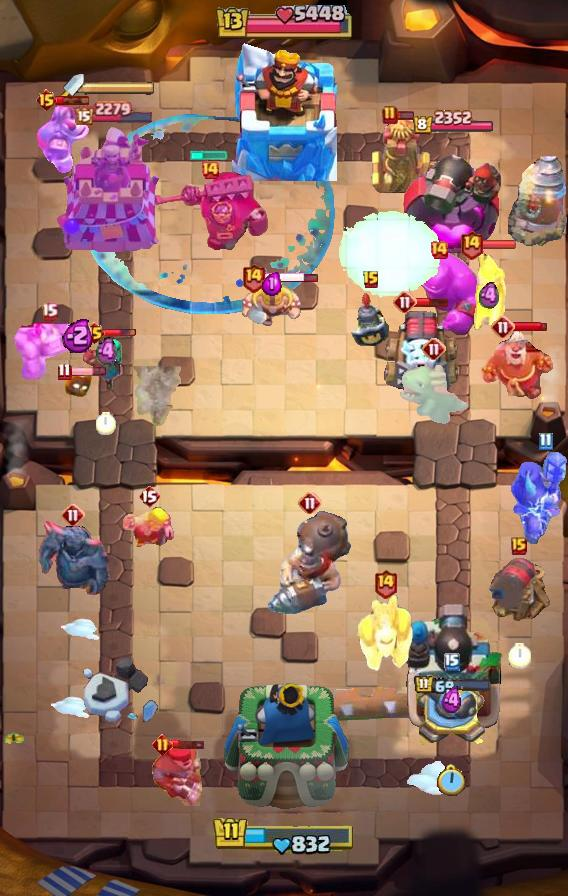archer: (123, 503, 175, 547)
bar: (55, 126, 173, 256)
bomb-tower: (470, 248, 508, 346)
bomber: (63, 370, 93, 398)
clock: (212, 815, 356, 857), (213, 5, 355, 43)
clone: (391, 251, 487, 337)
electro-spirit: (61, 317, 95, 353), (96, 336, 117, 368), (441, 686, 463, 714), (479, 281, 499, 311), (262, 271, 282, 296)
electro-wizard: (399, 363, 470, 425)
elixir: (437, 764, 467, 798), (509, 643, 532, 669), (96, 412, 116, 435)
elixir-collector: (477, 327, 555, 401)
elixir-golem-small: (354, 593, 416, 673), (36, 103, 90, 175)
emote: (265, 272, 320, 285), (512, 321, 548, 333), (170, 738, 206, 750), (70, 367, 107, 378), (481, 238, 517, 249), (414, 297, 450, 308), (55, 94, 90, 105), (103, 328, 137, 338), (397, 110, 416, 121)
fisherman: (128, 366, 181, 432)
goblin-brawler: (370, 114, 432, 198)
goblin-giant: (241, 280, 303, 328)
golem: (382, 307, 462, 397)
golemite: (32, 519, 114, 599)
ice-spirit: (189, 148, 231, 160)
inferno-dragon: (510, 450, 568, 544)
inferno-tower: (150, 171, 270, 255)
king-tower: (219, 678, 349, 826), (231, 43, 337, 181)
king-tower-bar: (84, 81, 156, 95)
magic-archer: (508, 155, 568, 247)
mega-knight: (337, 209, 443, 302)
minion: (304, 680, 432, 726)
pad_0: (83, 112, 337, 314)
phoenix-small: (150, 742, 208, 806)
princess: (350, 292, 392, 350)
royal-giant-evolution: (485, 554, 553, 624)
royal-recruit: (416, 667, 488, 751)
selected: (413, 110, 496, 136), (73, 99, 154, 125), (414, 675, 492, 697)
text: (460, 228, 485, 259), (241, 263, 266, 294), (373, 569, 398, 600), (393, 290, 417, 314), (491, 315, 515, 339), (422, 337, 446, 361), (298, 491, 322, 515), (61, 503, 85, 527), (35, 88, 58, 112), (83, 321, 106, 345), (138, 484, 160, 508), (151, 733, 172, 755), (200, 160, 220, 180), (429, 240, 449, 260), (362, 270, 380, 290), (41, 302, 59, 321), (382, 105, 398, 125), (511, 537, 527, 555), (444, 653, 460, 671), (539, 433, 554, 452), (57, 363, 71, 382)
tower-bar: (403, 601, 503, 731), (403, 138, 503, 256)
valkyrie-evolution: (12, 321, 87, 381)
witch: (80, 337, 132, 395)
wizard: (266, 509, 354, 617)
